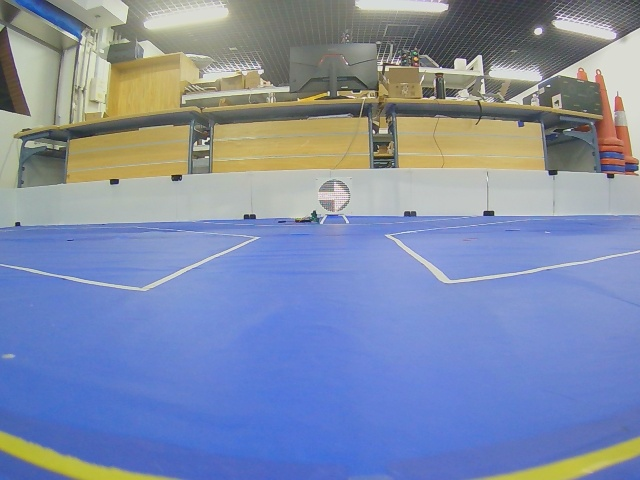right_yellow: (318, 179, 351, 213)
